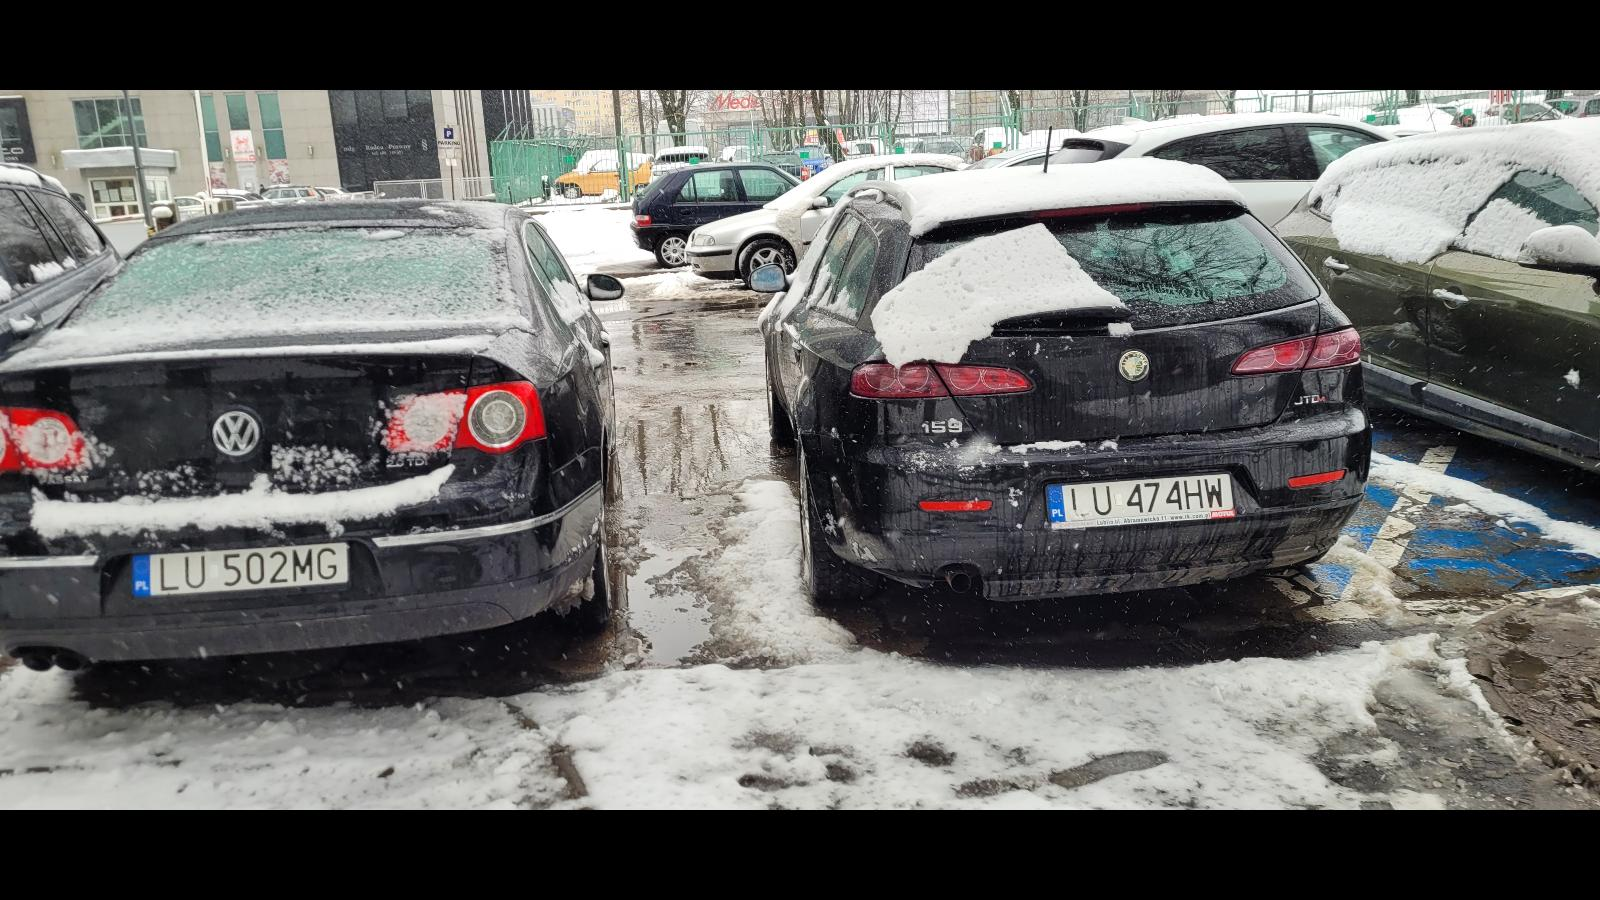plates: (130, 542, 353, 606), (1045, 471, 1237, 530)
